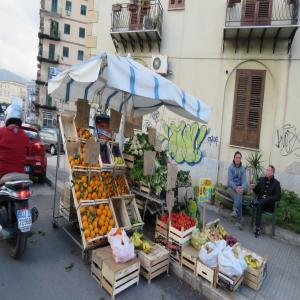Vehicle-registration-plate: (19, 209, 34, 233), (26, 166, 32, 172)
